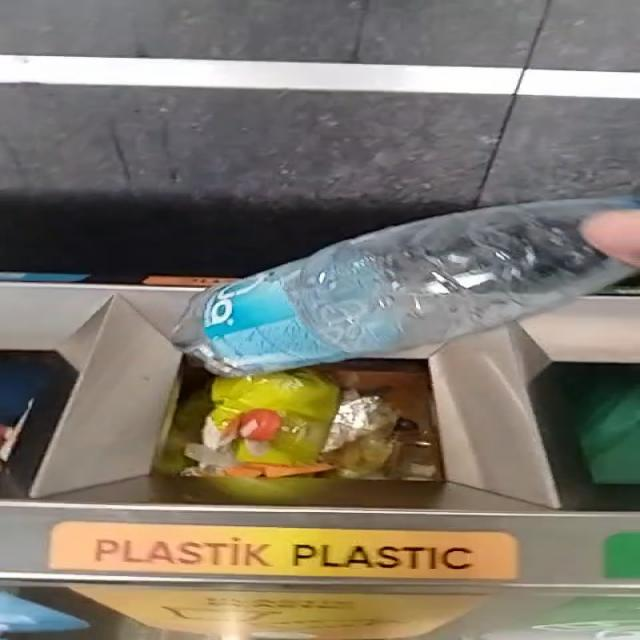plastic: (171, 196, 637, 376)
